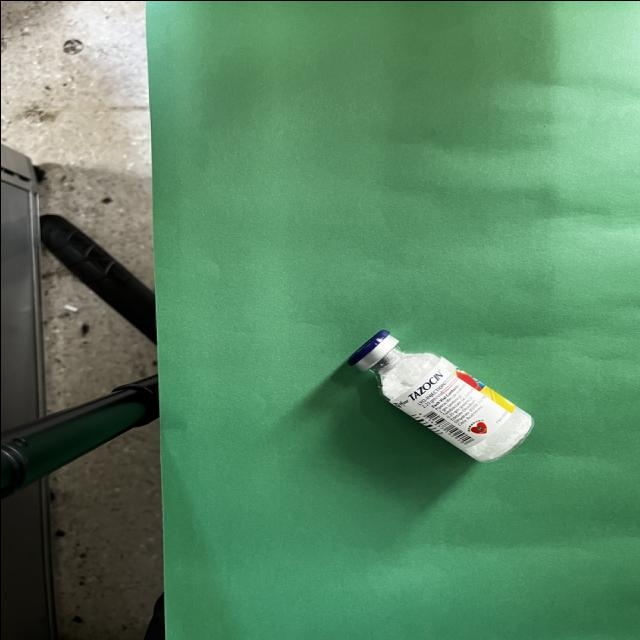Vials: (348, 329, 535, 463)
